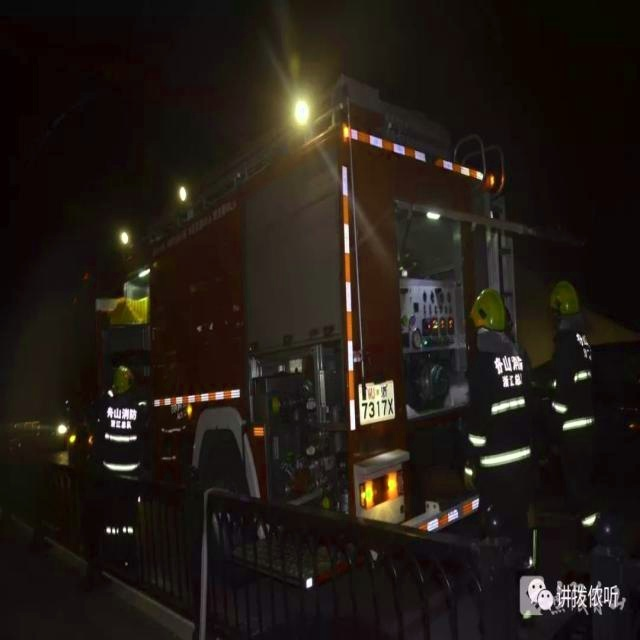Con_Chaleco: (476, 352, 532, 469), (555, 337, 595, 435), (102, 396, 142, 476)
